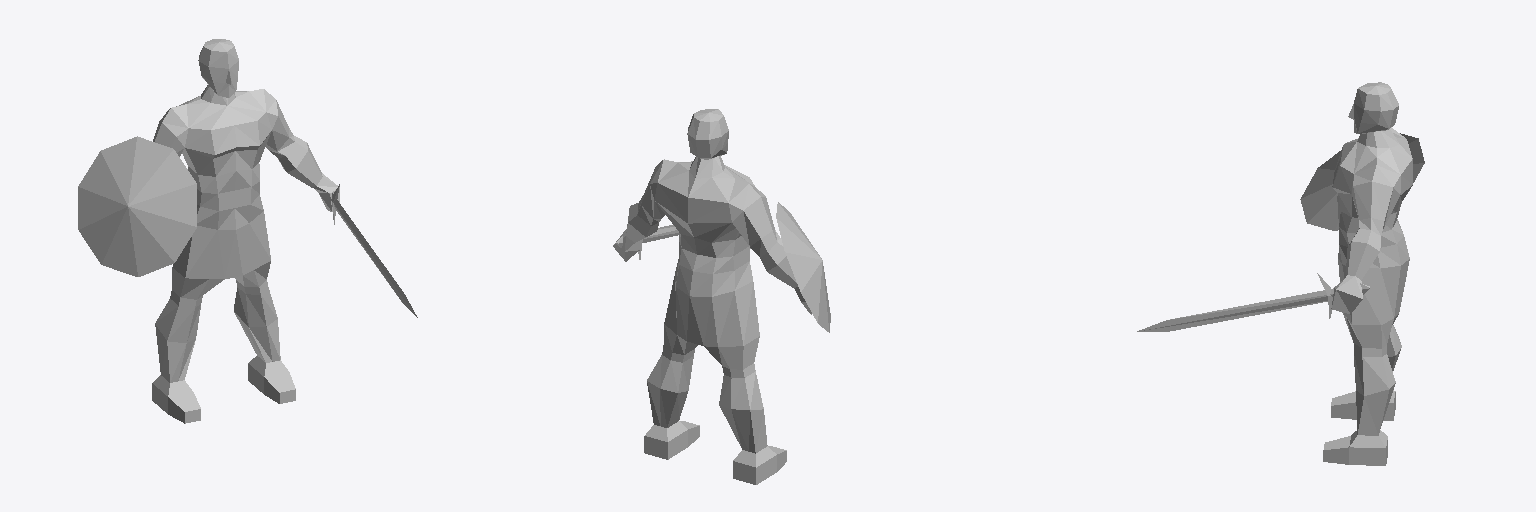
The model's file is swordsman.obj.
3 views of the same model, side by side, from view 1: azimuth 30°, elevation 25°; view 2: azimuth 150°, elevation 25°; view 3: azimuth 270°, elevation 25° (orthographic).
Parts seen in each view (by area): view 1: Mesh_swordman, Mesh.001_shield, Mesh.002_sword; view 2: Mesh_swordman, Mesh.001_shield; view 3: Mesh_swordman, Mesh.002_sword, Mesh.001_shield.
Boxes of the visible parts, x1,y1,x2,y2 form: Mesh_swordman: [152, 39, 339, 423]; Mesh.001_shield: [78, 136, 196, 276]; Mesh.002_sword: [331, 184, 417, 317]; Mesh_swordman: [613, 109, 811, 484]; Mesh.001_shield: [776, 202, 830, 332]; Mesh_swordman: [1323, 82, 1412, 465]; Mesh.002_sword: [1137, 273, 1369, 331]; Mesh.001_shield: [1300, 133, 1424, 230].
Size of the model in its own units: 2.71 by 4 by 2.99.